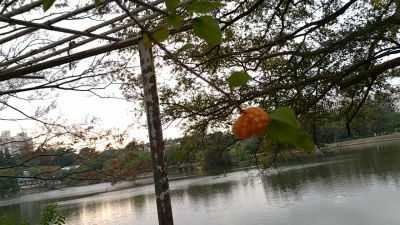eggs: (231, 105, 271, 140)
